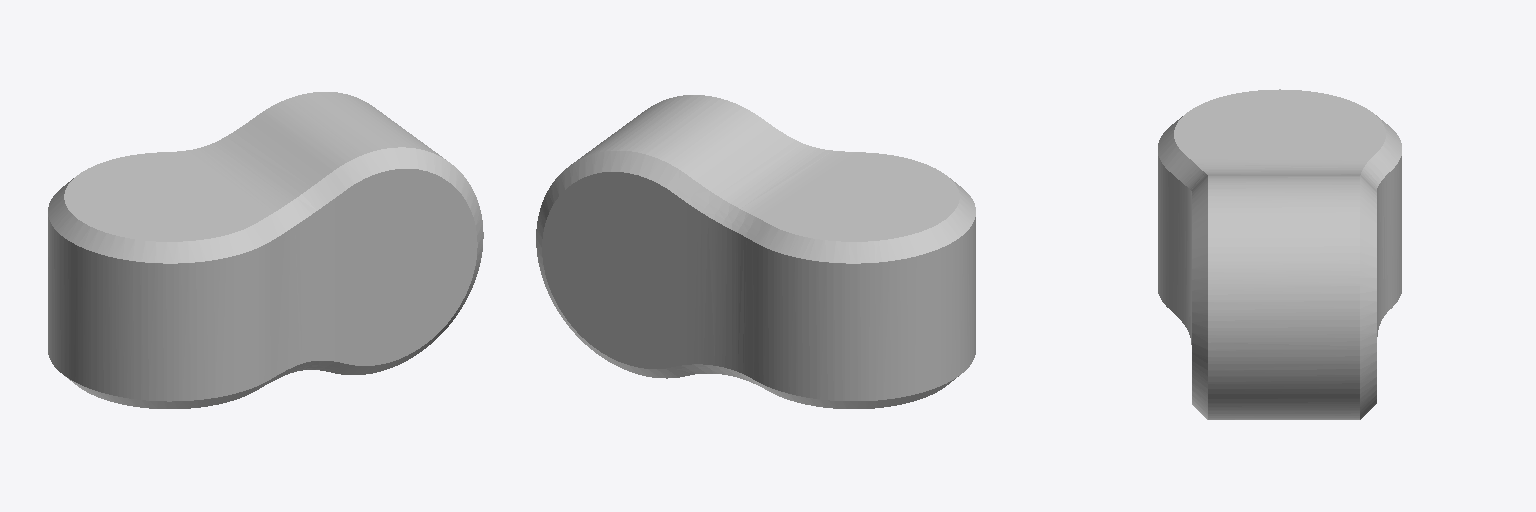
File: left_wrist_pitch_link_collisions.obj
3 renders of one model, left to right at view 1: azimuth 30°, elevation 25°; view 2: azimuth 150°, elevation 25°; view 3: azimuth 270°, elevation 25°, orthographic.
Bounding box in the file's own units: 0.103 × 0.057 × 0.057.